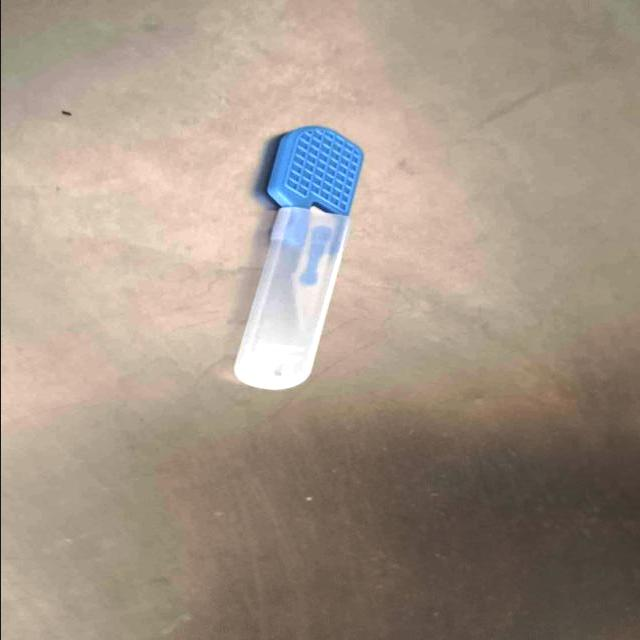General: (263, 124, 366, 218)
Sharps: (232, 125, 366, 392)
